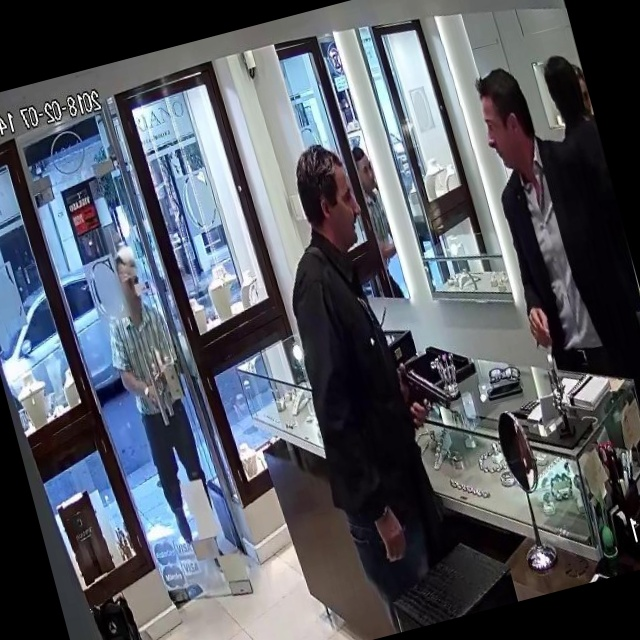gun: (386, 339, 466, 444)
